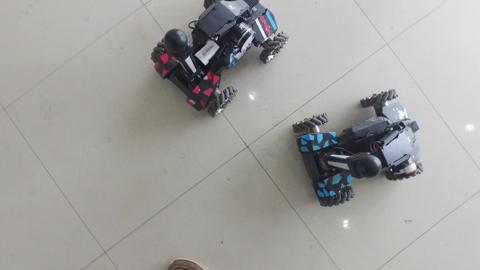chariot: (288, 82, 431, 211), (148, 1, 292, 124)
